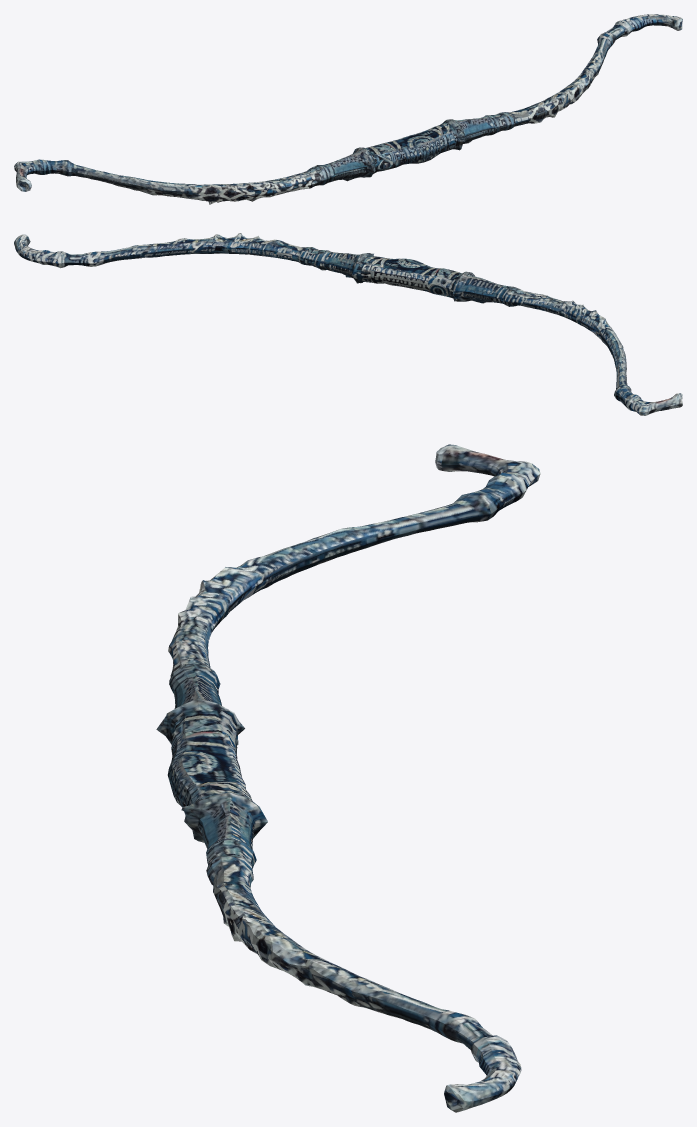
Rendered from Bow.fbx.
3 renders of one model, top to bottom at view 1: azimuth 30°, elevation 25°; view 2: azimuth 150°, elevation 25°; view 3: azimuth 270°, elevation 25°, orthographic. The views are drawn at different scales.
Parts seen in each view (by area): view 1: Bow_Low; view 2: Bow_Low; view 3: Bow_Low.
Boxes of the visible parts, x1,y1,x2,y2 form: Bow_Low: [14, 14, 682, 204]; Bow_Low: [14, 233, 682, 415]; Bow_Low: [156, 444, 540, 1112].
Size of the model in its own units: 120 by 5 by 30.
Materials: 1 (1 with a texture image).
